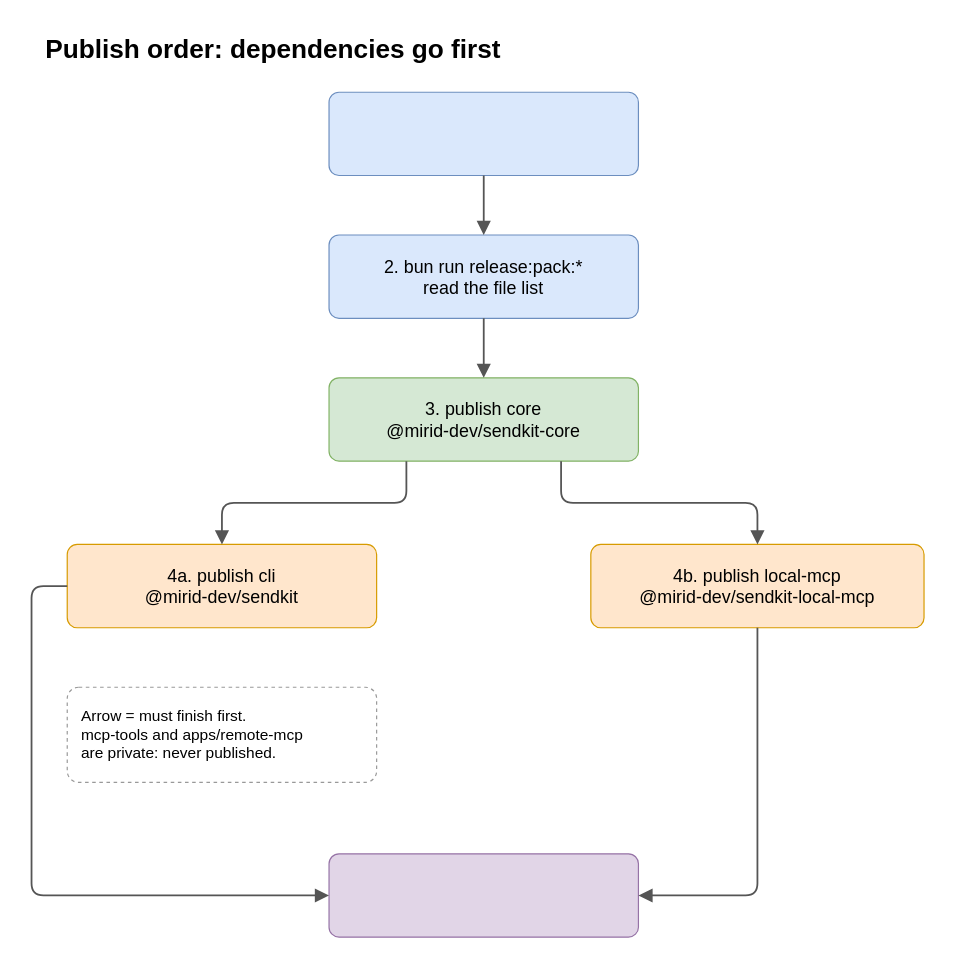
The diagram is 969 pixels wide and 958 high, and some of its shapes have lost their labels. Each missing label, with the centre of its shape:
"1. bun run build tsdown writes dist/" goes at [483,133].
"5. verify npm view, npx" goes at [483,895].
